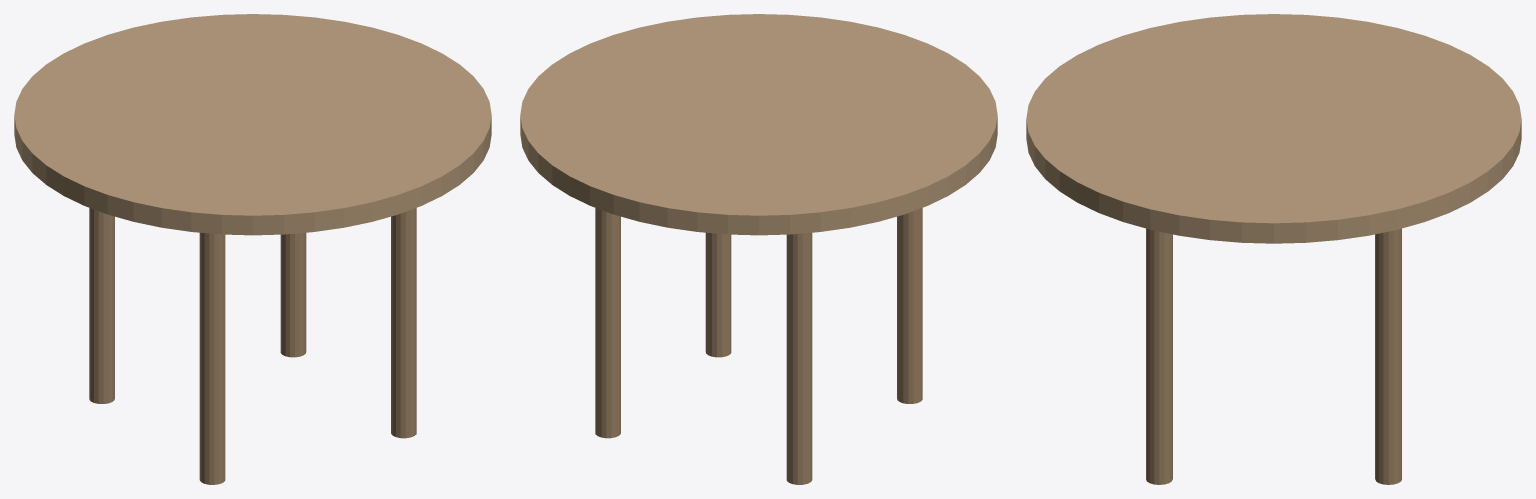
The model's file is table.glb.
3 renders of one model, left to right at view 1: azimuth 30°, elevation 25°; view 2: azimuth 150°, elevation 25°; view 3: azimuth 270°, elevation 25°, orthographic. The views are drawn at different scales.
Visible parts, largest first — view 1: geometry_0; view 2: geometry_0; view 3: geometry_0.
Boxes of the visible parts, x1=… form: geometry_0: x1=14, y1=14, x2=491, y2=484; geometry_0: x1=520, y1=14, x2=997, y2=484; geometry_0: x1=1026, y1=14, x2=1521, y2=484.
Bounding box in the file's own units: 1.1 × 0.765 × 1.1.
